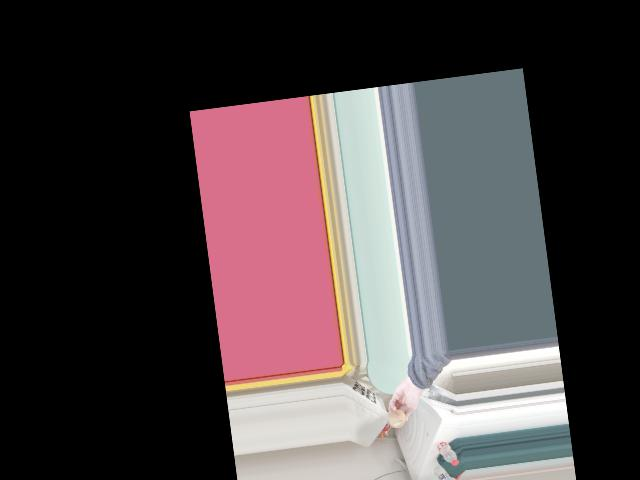sweet_potato: (388, 406, 406, 428)
